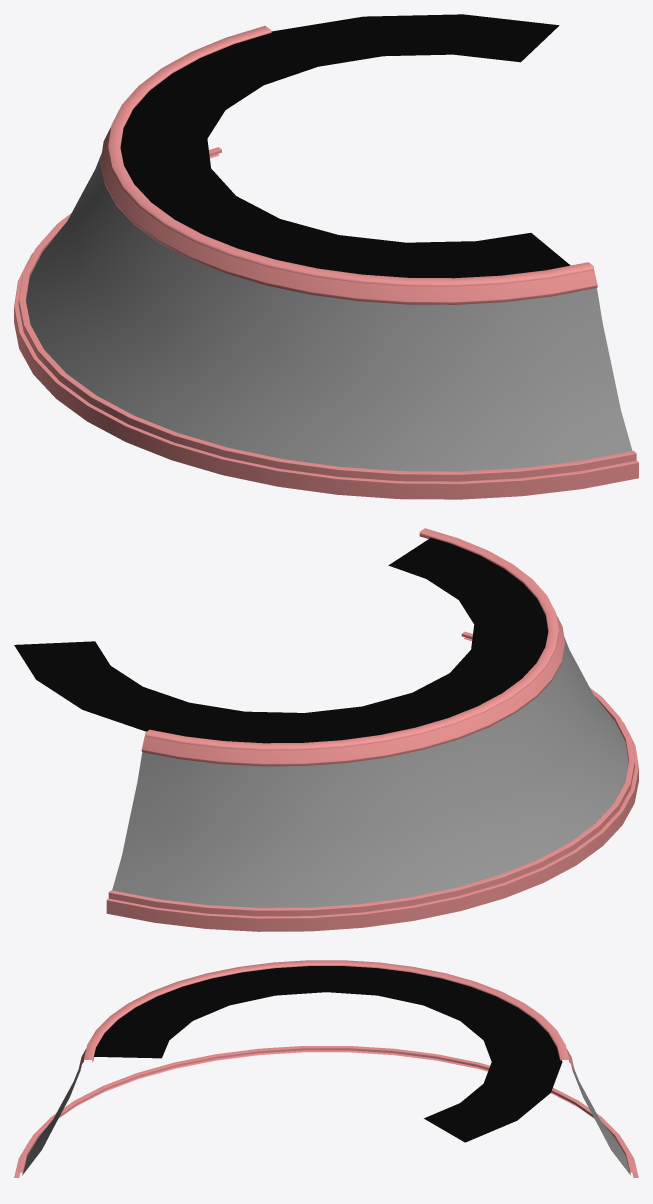
Rendered from SM_ENV_KNVLLG03_AreaD_Hokage_Hill_RoundC.gltf.
3 views of the same model, one above another, from view 1: azimuth 30°, elevation 25°; view 2: azimuth 150°, elevation 25°; view 3: azimuth 270°, elevation 25° (orthographic). The views are drawn at different scales.
Parts seen in each view (by area): view 1: SM_ENV_KNVLLG03_AreaD_Hokage_Hill_RoundC; view 2: SM_ENV_KNVLLG03_AreaD_Hokage_Hill_RoundC; view 3: SM_ENV_KNVLLG03_AreaD_Hokage_Hill_RoundC.
Part boxes in pixels (box(x1,y1,x2,y2)): SM_ENV_KNVLLG03_AreaD_Hokage_Hill_RoundC: box(14, 14, 638, 499); SM_ENV_KNVLLG03_AreaD_Hokage_Hill_RoundC: box(14, 528, 638, 931); SM_ENV_KNVLLG03_AreaD_Hokage_Hill_RoundC: box(14, 960, 638, 1177).
Bounding box in the file's own units: 43.24 × 12.55 × 54.44.
